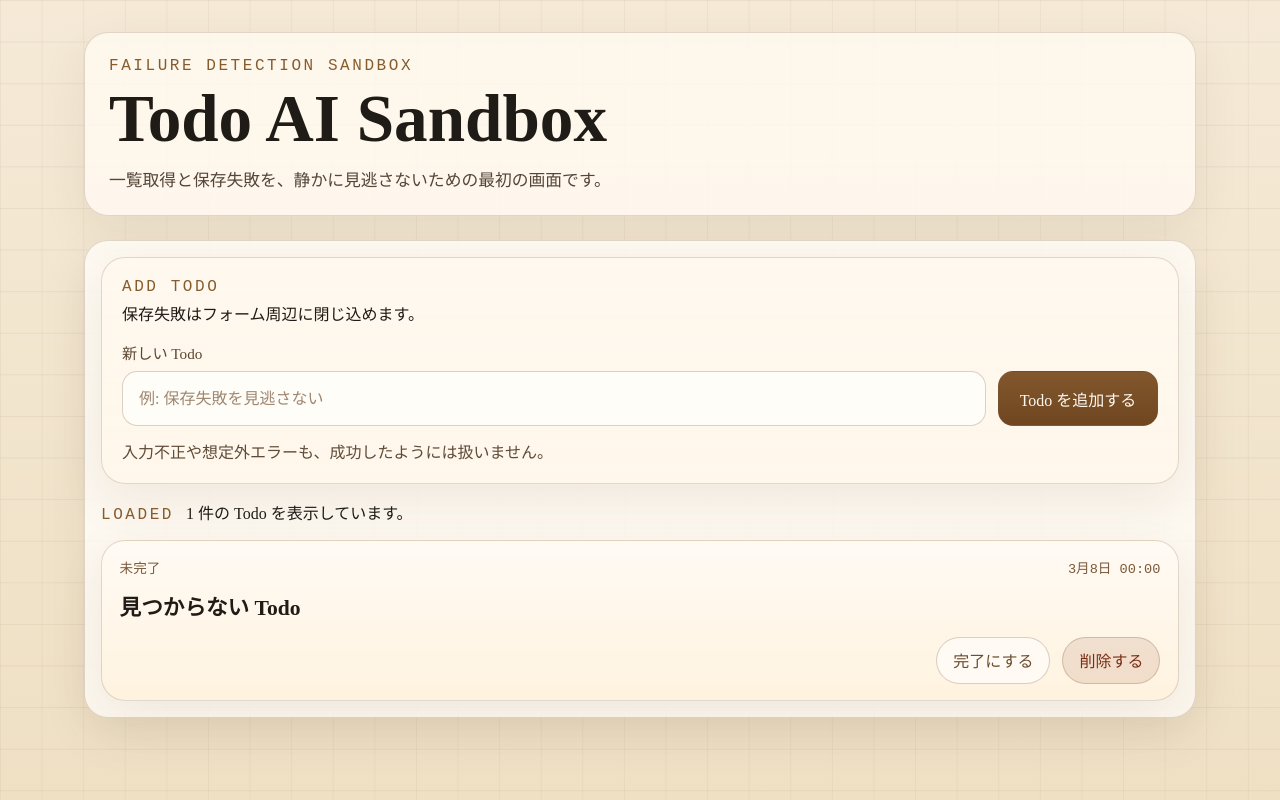
App › 削除が 404 で失敗したときはダイアログ内に失敗表示を出し、Todo は残す
Expected: the heading "見つからない Todo" is shown, x1=120 y1=596 x2=301 y2=620
Click the button "削除する" at (1111, 660), box x1=1062 y1=637 x2=1160 y2=684
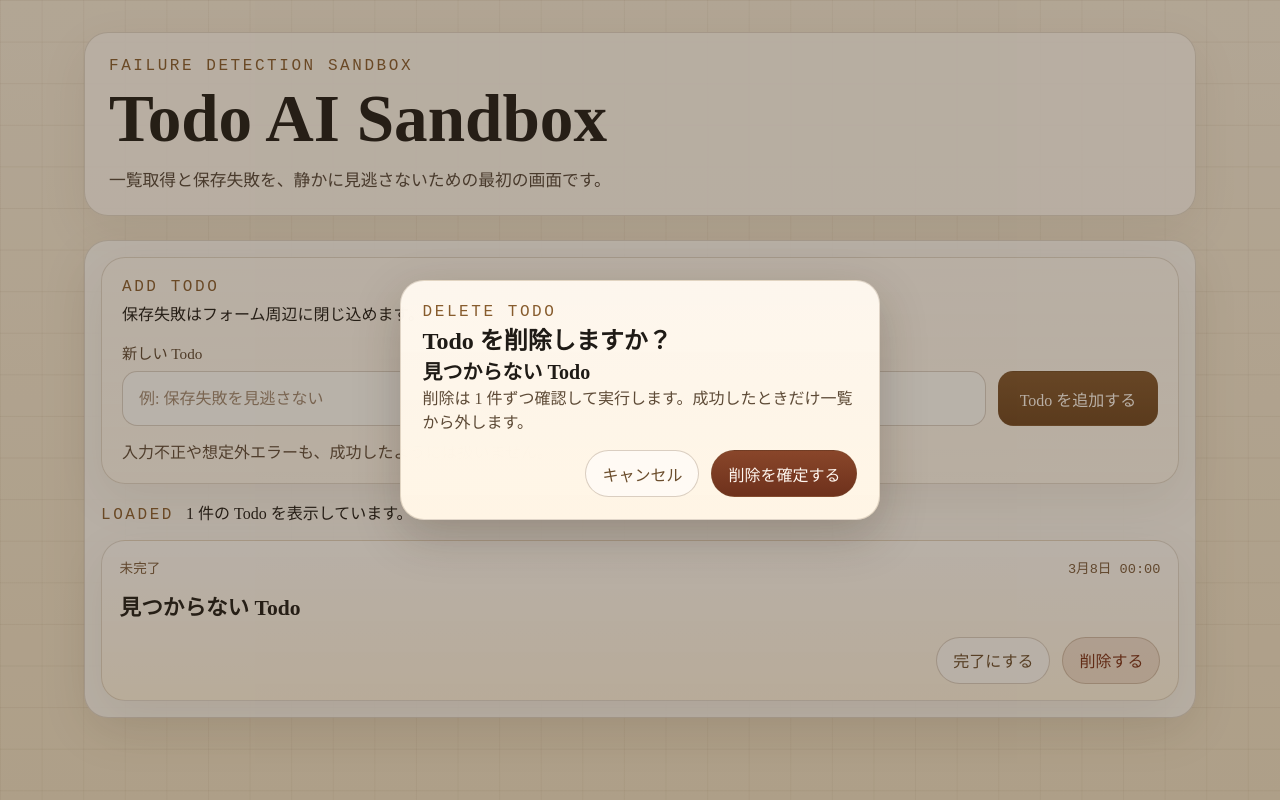
Click the button "削除を確定する" at (784, 474), box x1=711 y1=450 x2=857 y2=497
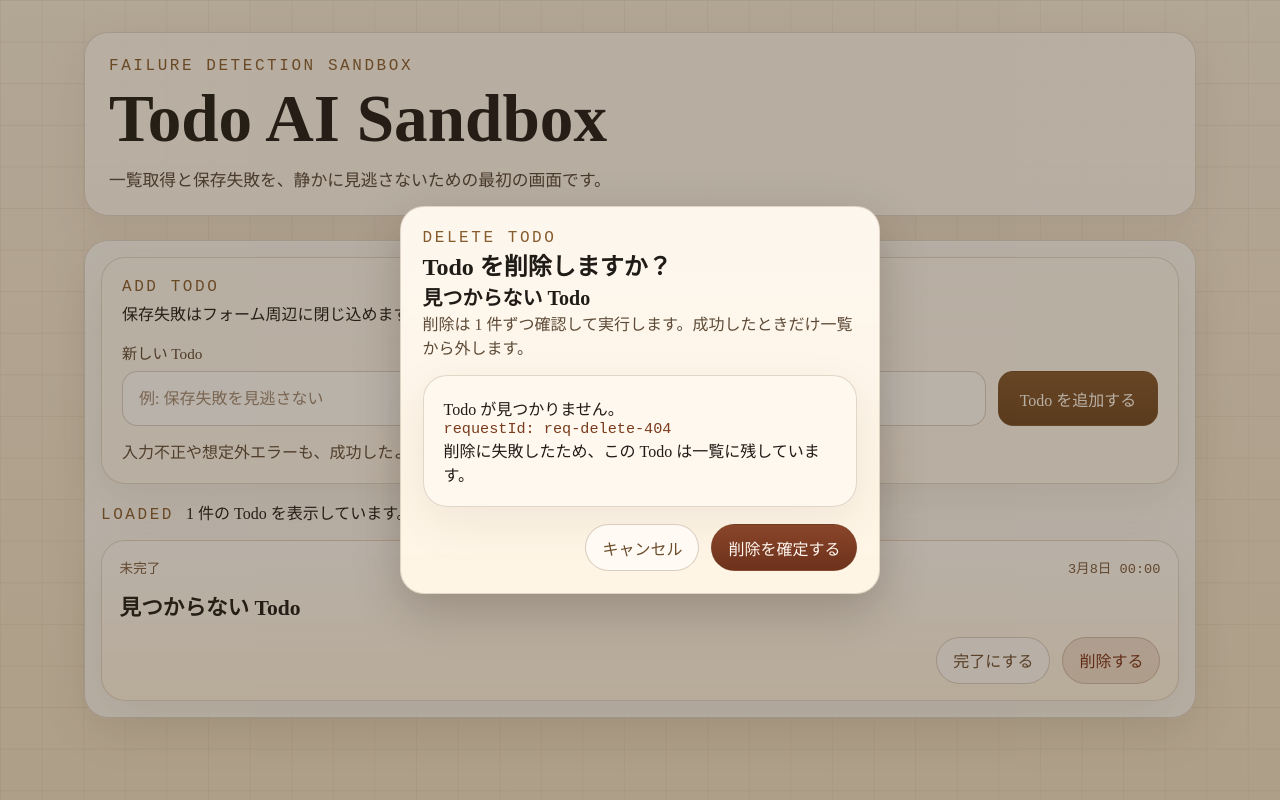
Now the text "Todo が見つかりません。" is shown, box x1=444 y1=401 x2=624 y2=418
Now the text "requestId: req-delete-404" is shown, box x1=444 y1=420 x2=672 y2=438
Now the text "削除に失敗したため、この Todo は一覧に残しています。" is shown, box x1=444 y1=438 x2=836 y2=486
